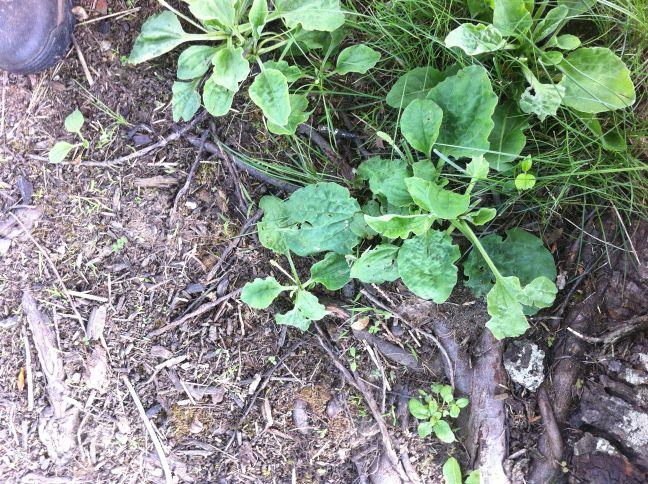weed1: (251, 66, 567, 343), (390, 1, 642, 168), (110, 1, 357, 129)
